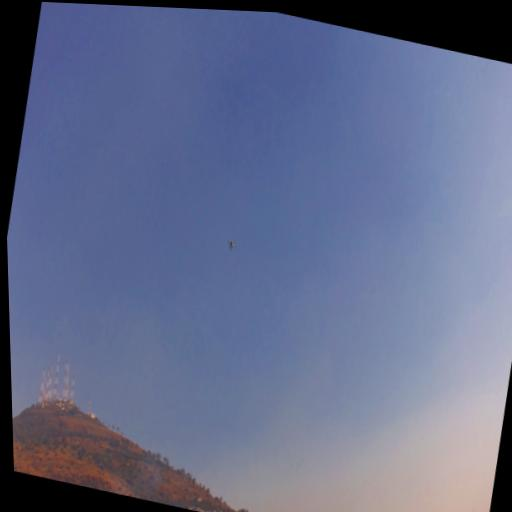drones: (223, 231, 240, 257)
